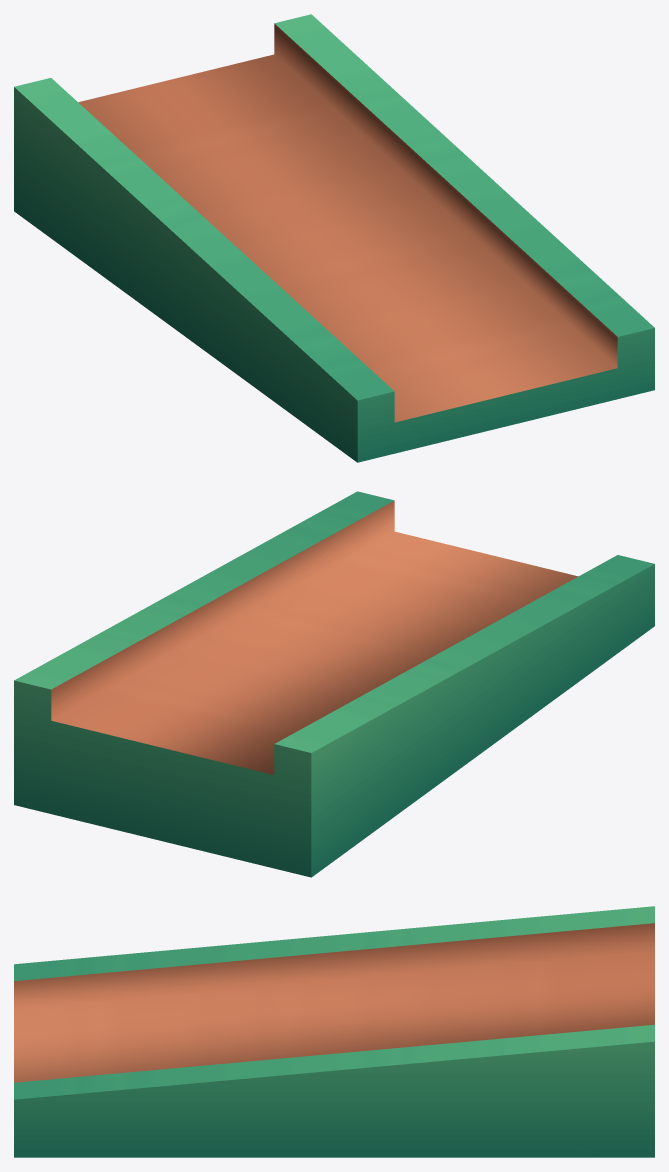
The model's file is tile-straight-slope-large.fbx.
3 views of the same model, one above another, from view 1: azimuth 30°, elevation 25°; view 2: azimuth 150°, elevation 25°; view 3: azimuth 270°, elevation 25° (orthographic). The views are drawn at different scales.
Visible parts, largest first — view 1: tile-straight-slope-large; view 2: tile-straight-slope-large; view 3: tile-straight-slope-large.
Boxes of the visible parts, box(x1,y1,x2,y2) form: tile-straight-slope-large: box(14, 14, 654, 462); tile-straight-slope-large: box(14, 491, 654, 877); tile-straight-slope-large: box(14, 906, 654, 1157).
Size of the model in its own units: 100 by 40 by 200.
